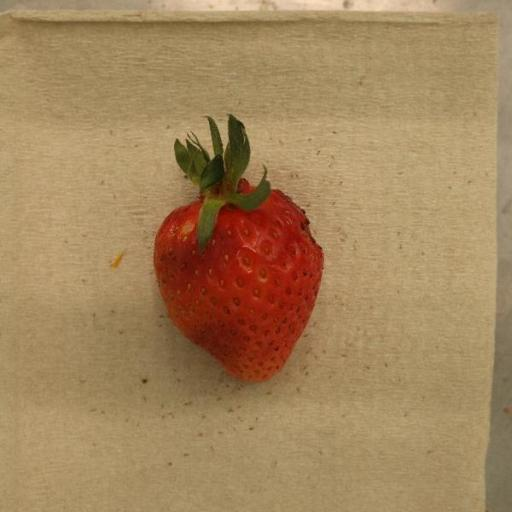Strawberry: (154, 115, 325, 382)
